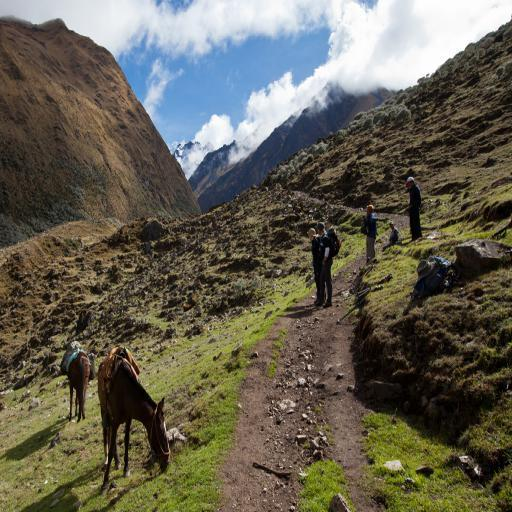horse: (89, 346, 170, 492), (68, 356, 92, 422)
